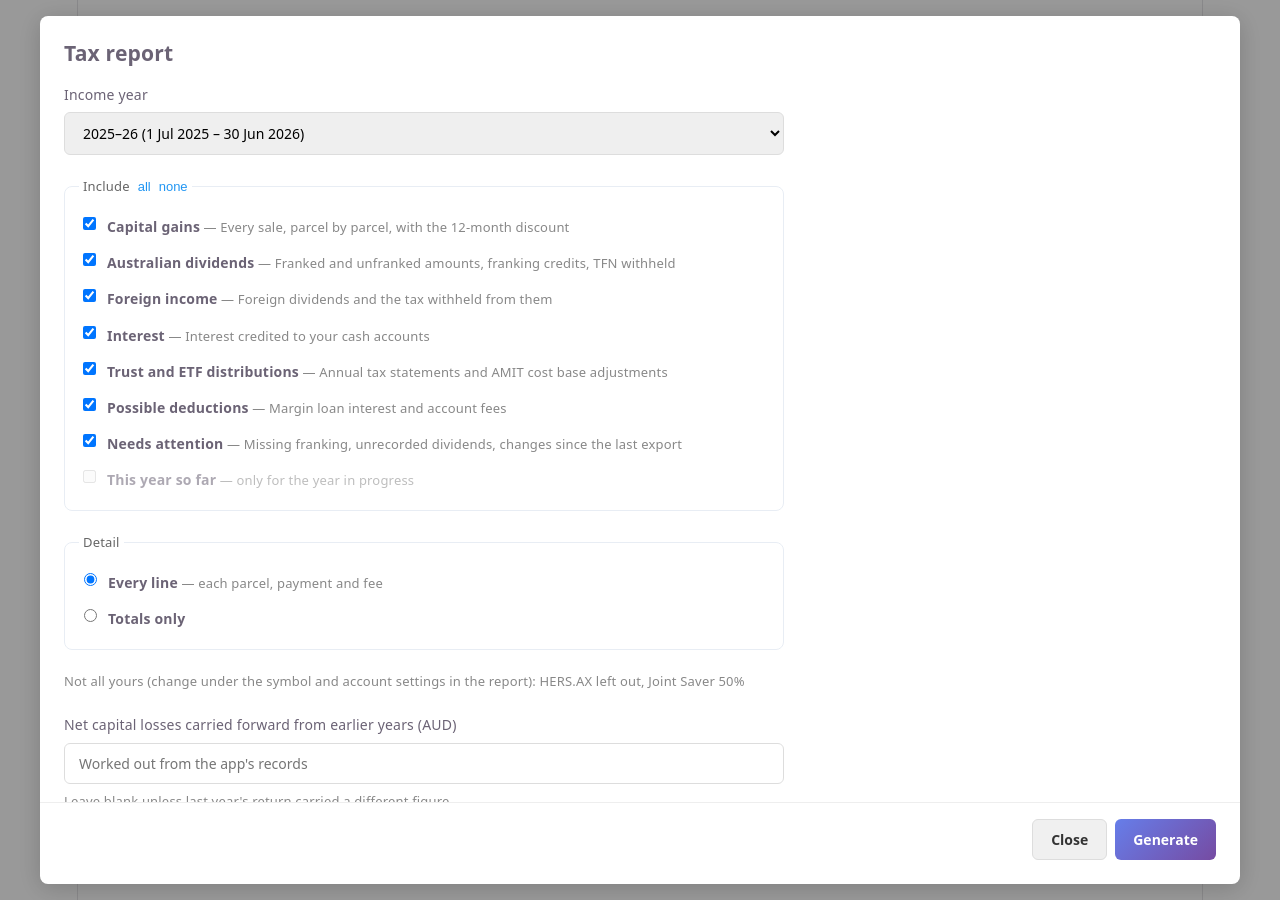
Test case: tax report options › offers the planning view for the year in progress
Select "2026–27 (1 Jul 2026 – 30 Jun 2027) — in progress" in the dropdown at (424, 134), box [64,112,784,155]
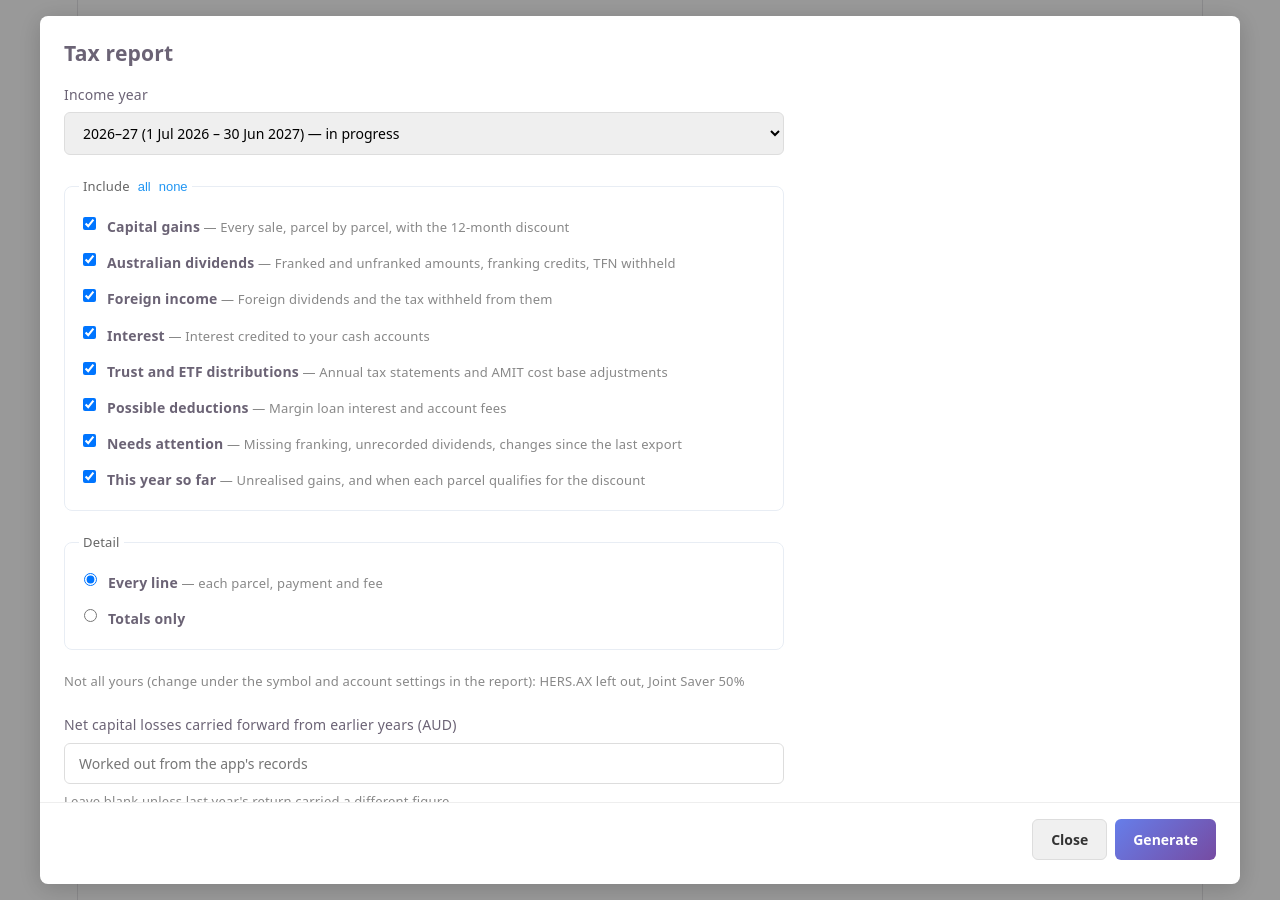
Result: the 8th checkbox is enabled at [83,470,96,483]
Result: the 8th checkbox is checked at [83,470,96,483]
